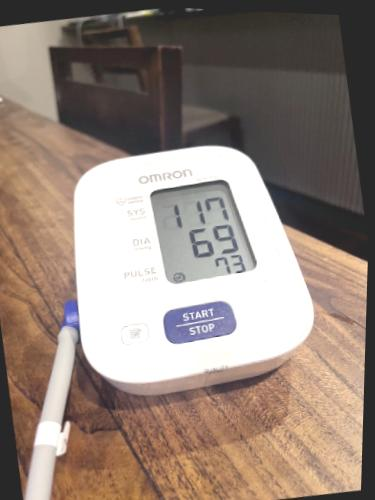bpm: (146, 174, 260, 287)
